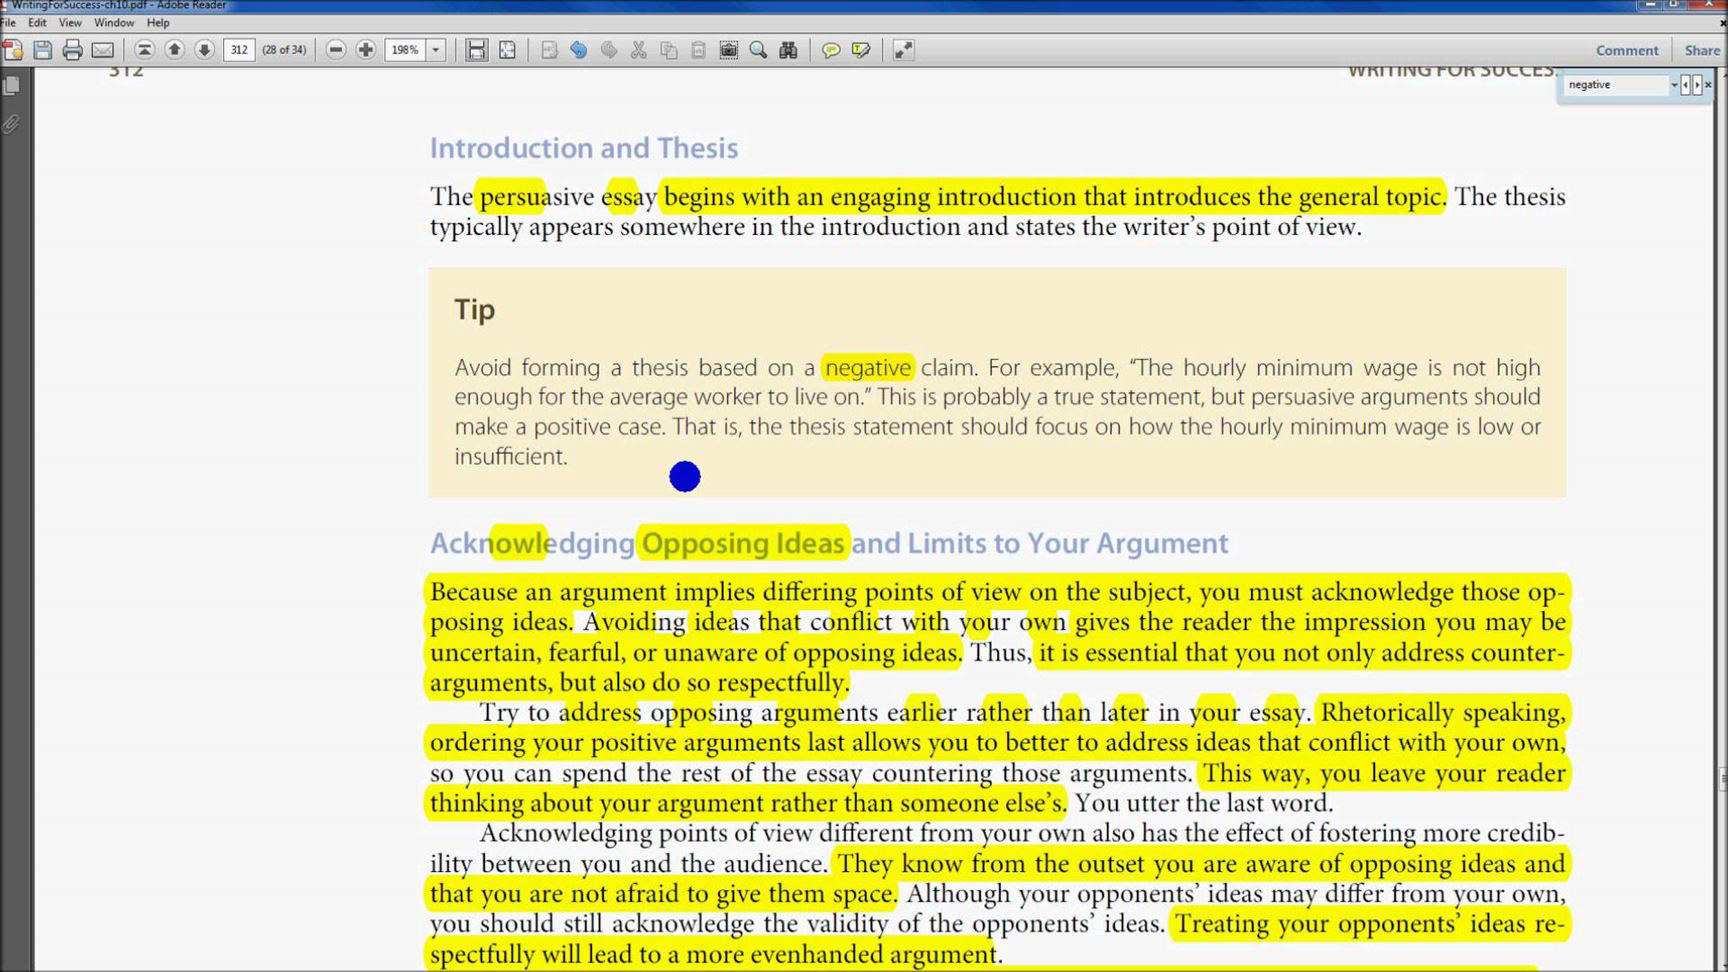arguments: (1060, 767, 1184, 783)
earlier: (887, 707, 955, 720)
